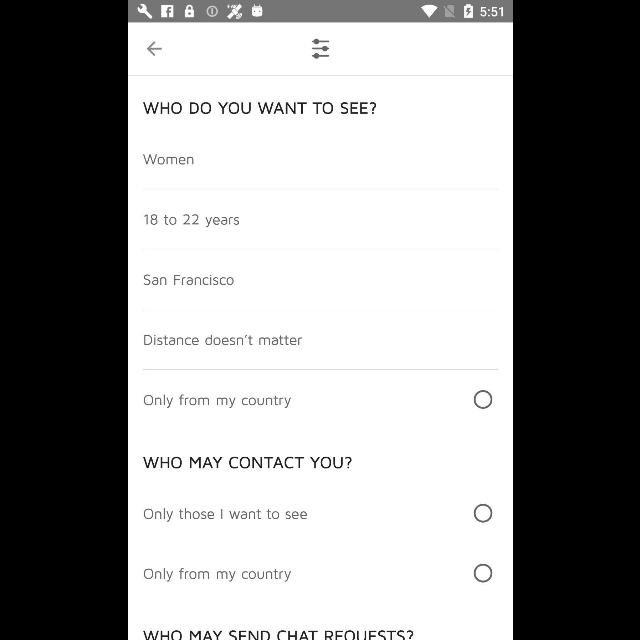checkbox: (472, 389, 492, 409), (473, 504, 491, 522), (473, 564, 491, 582)
icon: (311, 39, 329, 60), (146, 41, 162, 57)
text: (142, 102, 376, 114), (142, 630, 414, 640), (142, 457, 352, 469), (143, 508, 307, 522), (143, 394, 291, 408), (143, 568, 291, 582), (143, 334, 301, 346), (144, 214, 238, 228), (143, 274, 233, 286), (142, 154, 194, 166)
